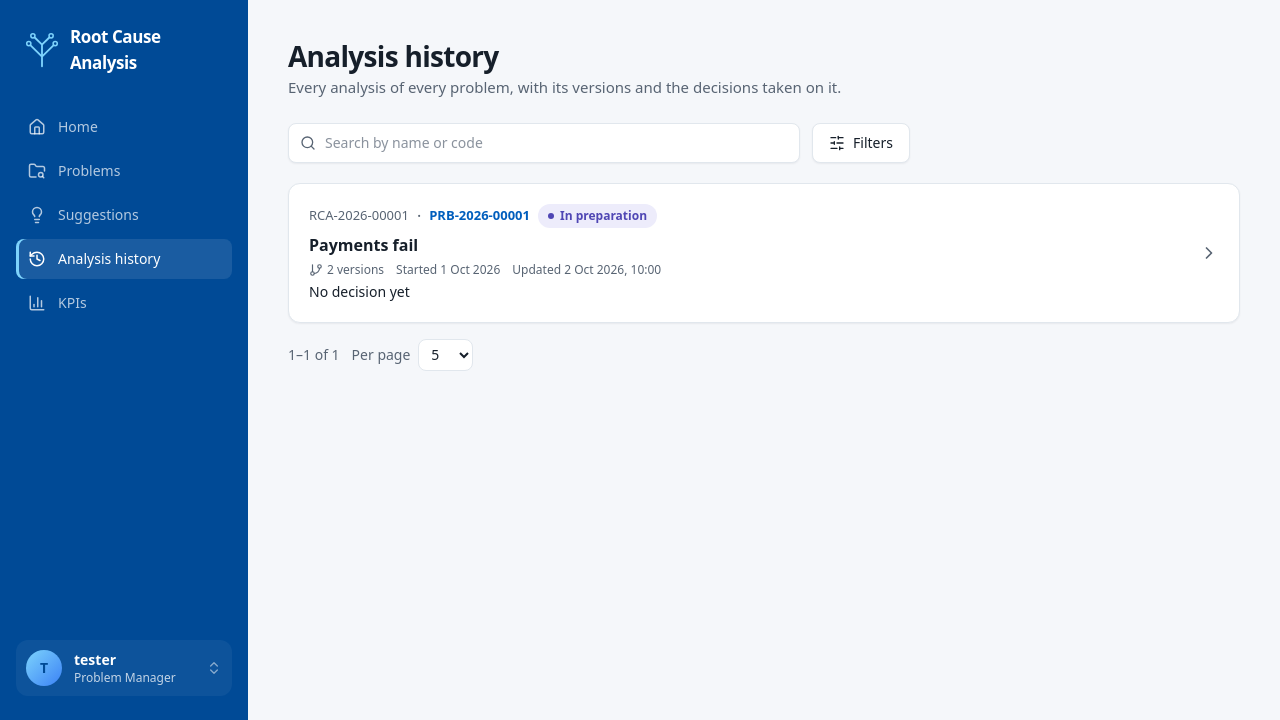
Scenario: RCA history pages › lists the RCAs with one Open case each, and the case shows every revision with one Open investigation
The image size is (1280, 720).
Click the link "Payments fail". click: (364, 244)
box: [309,234,418,256]
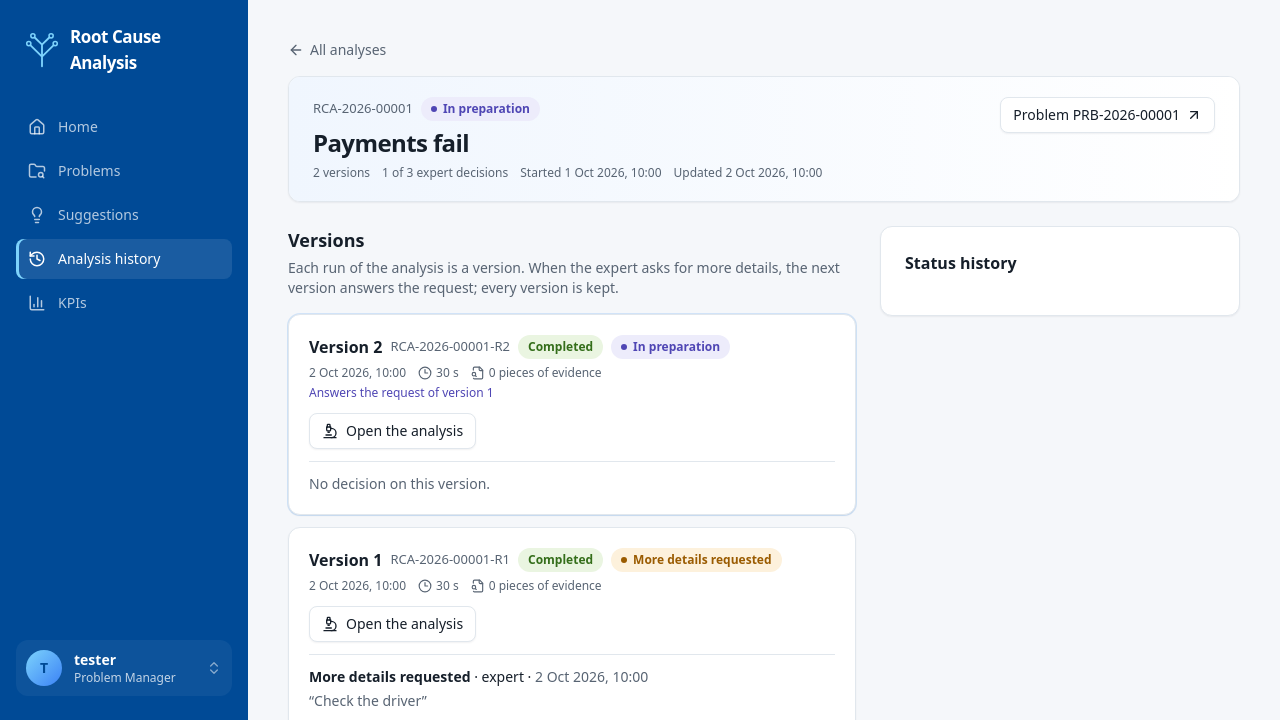
Check: the text "Version 2" is shown, box [309,335,382,359]
Check: the text "Version 1" is shown, box [309,548,382,572]
